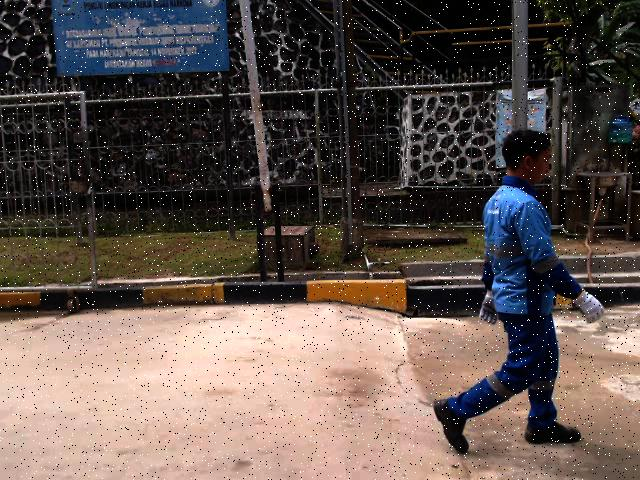gloves: (567, 286, 609, 331), (478, 288, 505, 327)
safety-shoes: (428, 396, 471, 455), (523, 418, 588, 450)
